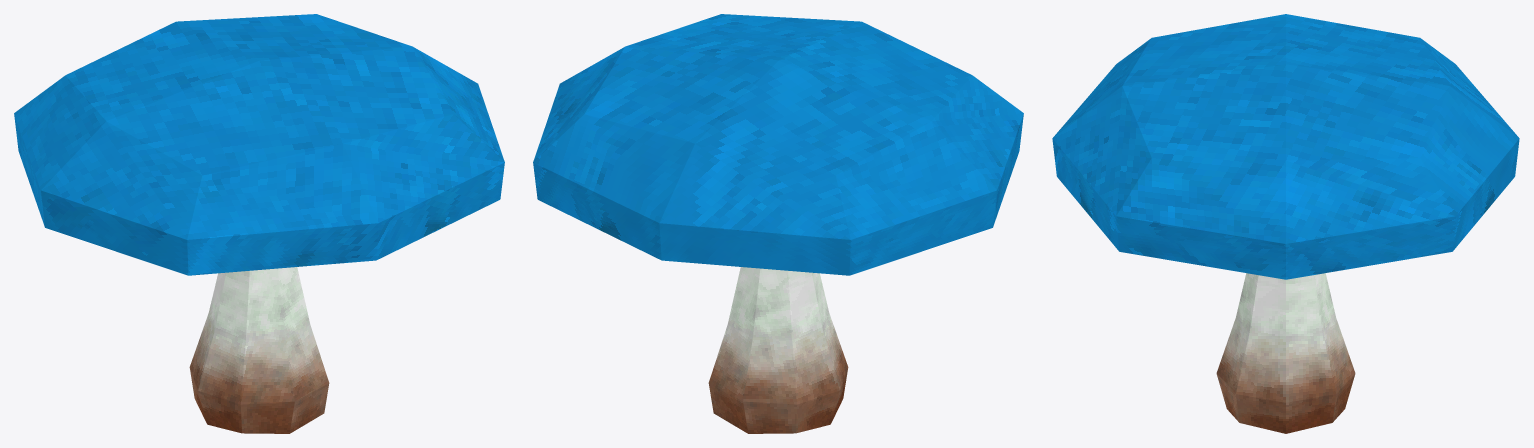
Rendered from mushroom_02.glb.
3 views of the same model, side by side, from view 1: azimuth 30°, elevation 25°; view 2: azimuth 150°, elevation 25°; view 3: azimuth 270°, elevation 25° (orthographic).
Visible parts, largest first — view 1: MUSH_02; view 2: MUSH_02; view 3: MUSH_02.
Part boxes in pixels (<box>): MUSH_02: <box>14,14,504,433</box>; MUSH_02: <box>533,14,1023,433</box>; MUSH_02: <box>1052,14,1519,433</box>.
Bounding box in the file's own units: 2.51 × 2 × 2.37.
Materials: 1 (1 with a texture image).
